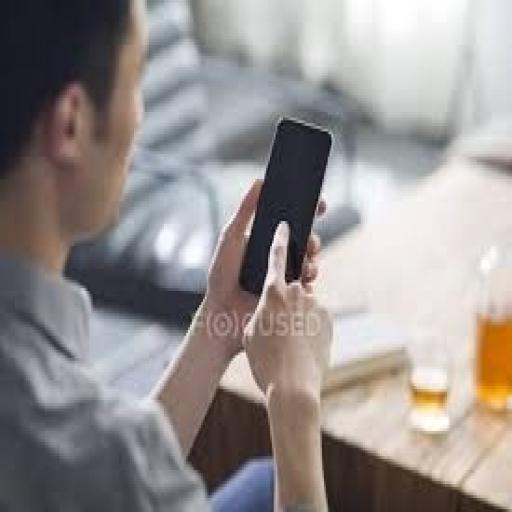texting: (0, 0, 333, 509)
